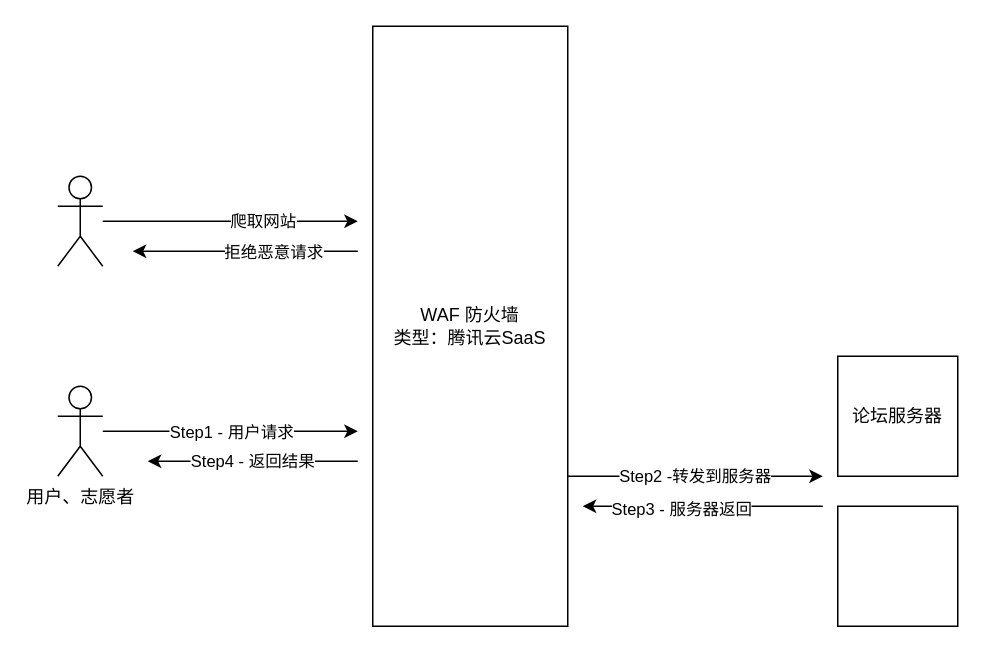
Image size: 984x653. Some labels were removed from this diagram. The centre of each missing label's shape, as x and y in pixels:
"www服务器" belongs at pixel 897 565.
"爬虫" belongs at pixel 79 220.
